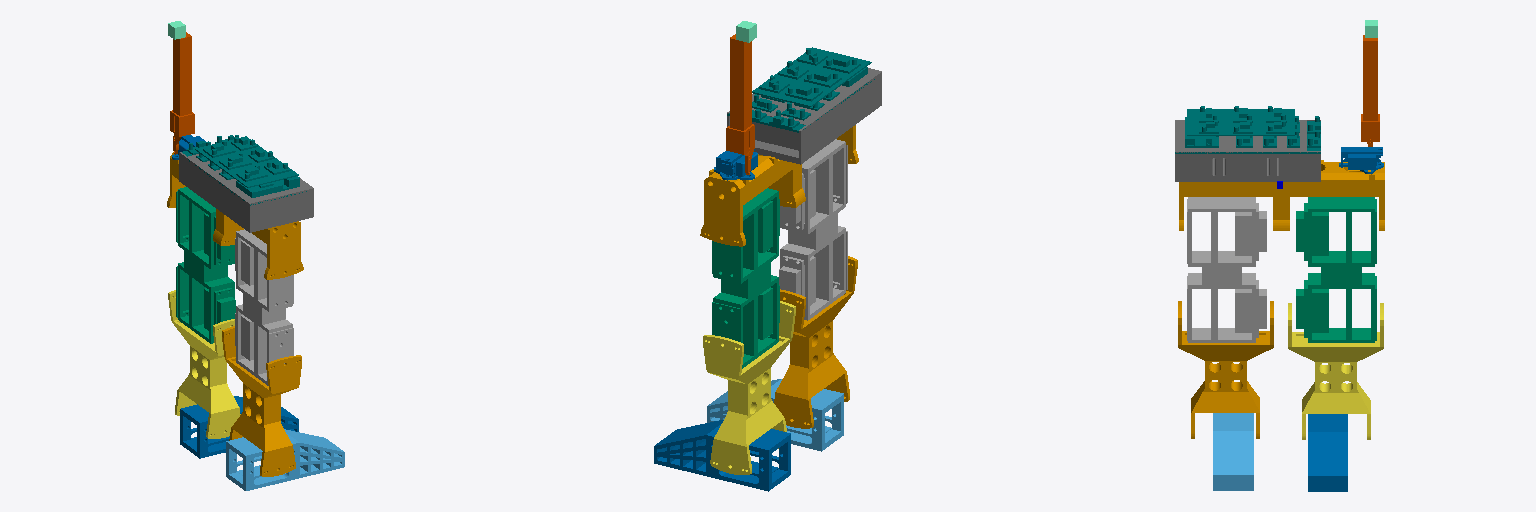
URDF robot description (Hocc_LiteBot_Prototype):
<?xml version="1.0"?>
<robot name="Hocc_LiteBot_Prototype">
    <link name='Hip'>
        <visual>
            <origin xyz="0 0 0.38" rpy="1.5708 0 1.5708"/>
            <geometry>
                <mesh filename="Assets/Hip.stl" scale="1 1 1"/>
            </geometry>
        </visual>
        <inertial>
            <origin xyz="0 0 0.38" rpy="1.5708 0 1.5708"/>
            <mass value="0.82"/>
            <inertia ixx="0.1" ixy="0.0" ixz="0.0" iyy="0.1" iyz="0.0" izz="0.1"/>
        </inertial>
        <collision>
            <origin xyz="0 0 0.38" rpy="1.5708 0 1.5708"/>
            <geometry>
                <mesh filename="Assets/Hip.stl" scale="1 1 1"/>
            </geometry>
        </collision>
        
    </link>

    <link name="Psu">
        <visual>
            <origin xyz="0.075 0.07 0.4585" rpy="1.5708 0 1.5708"/>
            <geometry>
                <mesh filename="Assets/Psu.stl" scale="1 1 1"/>
            </geometry>
            <material name="grey">
                <color rgba="0.5 0.5 0.5 1"/>
            </material>
        </visual>
        <inertial>
            <origin xyz="0.075 0.07 0.4585" rpy="1.5708 0 1.5708"/>
            <mass value="0.5"/>
            <inertia ixx="0.1" ixy="0.0" ixz="0.0" iyy="0.1" iyz="0.0" izz="0.1"/>
        </inertial>
        <collision>
            <origin xyz="0.075 0.07 0.4585" rpy="1.5708 0 1.5708"/>
            <geometry>
                <mesh filename="Assets/Psu.stl" scale="1 1 1"/>
            </geometry>
        </collision>
    </link>

    <link name="Hat">
        <visual>
            <origin xyz="0.075 0.07 0.455" rpy="1.5708 0 1.5708"/>
            <geometry>
                <mesh filename="Assets/Hat.stl" scale="1 1 1"/>
            </geometry>
            <material name="teal">
                <color rgba="0 0.5 0.5 1"/>
            </material>
        </visual>
        <inertial>
            <origin xyz="0.075 0.07 0.455" rpy="1.5708 0 1.5708"/>
            <mass value="0.15"/>
            <inertia ixx="0.1" ixy="0.0" ixz="0.0" iyy="0.1" iyz="0.0" izz="0.1"/>
        </inertial>
        <collision>
            <origin xyz="0.075 0.07 0.455" rpy="1.5708 0 1.5708"/>
            <geometry>
                <mesh filename="Assets/Hat.stl" scale="1 1 1"/>
            </geometry>
        </collision>
    </link>

    <link name="Camera_link">
        <inertial>
            <origin rpy="0 0 0" xyz="0.075 0.01 0.455"/>
            <mass value="0.01"/>
            <inertia ixx="0.0001" ixy="0" ixz="0" iyy="0.0001" iyz="0" izz="0.0001"/>
        </inertial>
        <visual>
            <origin rpy="0 0 0" xyz="0.075 0.01 0.455"/>
            <geometry>
                <box size="0.01 0.01 0.01"/>
            </geometry>
            <material name="Cam_Material">
                <color rgba="0 0 1 1.0"/>
            </material>
        </visual>
        <collision>
            <origin rpy="0 0 0" xyz="0.075 0.01 0.455"/>
            <geometry>
                <box size="0.01 0.01 0.01"/>
            </geometry>
        </collision>
    </link>

    <link name="Pendi_Motor">
        <visual>
         <origin xyz="0.01 0.16 0.46" rpy="1.5708 0 1.5708"/>
            <geometry>
                <mesh filename="Assets/Pendi_Motor.stl" scale="1 1 1"/>
            </geometry>
        </visual>
        <inertial>
            <origin xyz="0.01 0.16 0.46" rpy="1.5708 0 1.5708"/>
            <mass value="0.08"/>
            <inertia ixx="0.1" ixy="0.0" ixz="0.0" iyy="0.1" iyz="0.0" izz="0.1"/>
        </inertial>
        <collision>
            <origin xyz="0.01 0.16 0.46" rpy="1.5708 0 1.5708"/>
            <geometry>
                <mesh filename="Assets/Pendi_Motor.stl" scale="1 1 1"/>
            </geometry>
        </collision>
    </link>

    <link name="Pendi_Assembly">
        <visual>
         <origin xyz="0.02 0.01 0.06" rpy="-1.5708 1.5708 1.5708"/>
            <geometry>
                <mesh filename="Assets/Pendi_Assembly.stl" scale="1 1 1"/>
            </geometry>
        </visual>
        <inertial>
            <origin xyz="0.02 0.01 0.06" rpy="-1.5708 1.5708 1.5708"/>
            <mass value="0.08"/>
            <inertia ixx="0.1" ixy="0.0" ixz="0.0" iyy="0.1" iyz="0.0" izz="0.1"/>
        </inertial>
        <collision>
            <origin xyz="0.02 0.01 0.06" rpy="-1.5708 1.5708 1.5708"/>
            <geometry>
                <mesh filename="Assets/Pendi_Assembly.stl" scale="1 1 1"/>
            </geometry>
        </collision>
    </link>

    <link name="Pendi_Weight">
        <visual>
            <origin xyz="0 0 0" rpy="0 0 0"/>
            <geometry>
                <box size="0.02 0.02 0.02"/>
            </geometry>
            <material name="weight_material">
                <color rgba="0.5 01.0 0.8 1.0"/>
            </material>
        </visual>
        <inertial>
            <origin xyz="0 0 0" rpy="0 0 0"/>
            <mass value="0.2"/>
            <inertia ixx="0.1" ixy="0.0" ixz="0.0" iyy="0.1" iyz="0.0" izz="0.1"/>
        </inertial>
        <collision>
            <origin xyz="0 0 0" rpy="0 0 0"/>
            <geometry>
                <box size="0.02 0.02 0.02"/>
            </geometry>
        </collision>
    </link>

    

    <link name="R_Thaigh">
        <visual>
            <!-- 0.075 = Level @ Z Axis -->
            <!--<origin xyz="0.0485 -0.125 0.267" rpy="1.5708 0 -1.5708"/>-->
            <origin xyz="0.021 0.014 -0.1165" rpy="1.5708 0 -1.5708"/>
            <geometry>
                <mesh filename="Assets/Thaigh.stl" scale="1 1 1"/>
            </geometry>
        </visual>
        <inertial>
            <origin xyz="0.021 0.014 -0.1165" rpy="1.5708 0 -1.5708"/>
            <mass value="0.6"/>
            <inertia ixx="0.1" ixy="0.0" ixz="0.0" iyy="0.1" iyz="0.0" izz="0.1"/>
        </inertial>
        <collision>
            <origin xyz="0.021 0.014 -0.1165" rpy="1.5708 0 -1.5708"/>
            <geometry>
                <mesh filename="Assets/Thaigh.stl" scale="1 1 1"/>
            </geometry>
        </collision>
    </link>

    <link name="R_Shin">
        <visual>
        <!-- 0.155 -->
            <origin xyz="0.0245 0.13 -0.040" rpy="1.5708 0 0"/>
            <geometry>
                <mesh filename="Assets/Shin.stl" scale="1 1 1" />
            </geometry>
        </visual>
        <inertial>
           <origin xyz="0.0245 0.13 -0.040" rpy="1.5708 0 0"/>
            <mass value="0.33"/>
            <inertia ixx="0.1" ixy="0.0" ixz="0.0" iyy="0.1" iyz="0.0" izz="0.1"/>
        </inertial>
        <collision>
          <origin xyz="0.0245 0.13 -0.040" rpy="1.5708 0 0"/>
            <geometry>
                <mesh filename="Assets/Shin.stl" scale="1 1 1" />
            </geometry>
        </collision>
    </link>

    <link name="R_Foot">
        <visual>
            <origin xyz="-0.04 0.09 -0.04" rpy="1.5708 0 0"/>
            <geometry>
                 <mesh filename="Assets/foot.stl" scale="1 1 1" />
            </geometry>
        </visual>
        <inertial>
             <origin xyz="-0.04 0.09 -0.04" rpy="1.5708 0 0"/>
            <mass value="0.392"/>
            <inertia ixx="0.1" ixy="0.0" ixz="0.0" iyy="0.1" iyz="0.0" izz="0.1"/>
        </inertial>
        <collision>
             <origin xyz="-0.04 0.09 -0.04" rpy="1.5708 0 0"/>
            <geometry>
                 <mesh filename="Assets/foot.stl" scale="1 1 1" />
            </geometry>
        </collision>
    </link>


    <link name="L_Thaigh">
        <visual>
            
            <origin xyz="-0.021 0.151 -0.1165" rpy="1.5708 0 1.5708"/>
            <geometry>
                <mesh filename="Assets/Thaigh.stl" scale="1 1 1"/>
            </geometry>
        </visual>
        <inertial>
            <origin xyz="-0.021 0.151 -0.1165" rpy="1.5708 0 1.5708"/>
            <mass value="0.6"/>
            <inertia ixx="0.1" ixy="0.0" ixz="0.0" iyy="0.1" iyz="0.0" izz="0.1"/>
        </inertial>
        <collision>
            <origin xyz="-0.021 0.151 -0.1165" rpy="1.5708 0 1.5708"/>
            <geometry>
                <mesh filename="Assets/Thaigh.stl" scale="1 1 1" />
            </geometry>
        </collision>
    </link>

    <link name="L_Shin">
        <visual>
            <origin xyz="0.0245 0.013 -0.040" rpy="1.5708 0 0"/>
            <geometry>
                <mesh filename="Assets/Shin.stl" scale="1 1 1" />
            </geometry>
        </visual>
        <inertial>
            <origin xyz="0.0245 0.013 -0.040" rpy="1.5708 0 0"/>
            <mass value="0.33"/>
            <inertia ixx="0.1" ixy="0.0" ixz="0.0" iyy="0.1" iyz="0.0" izz="0.1"/>
        </inertial>
        <collision>
            <origin xyz="0.0245 0.013 -0.040" rpy="1.5708 0 0"/>
            <geometry>
                <mesh filename="Assets/Shin.stl" scale="1 1 1" />
            </geometry>
        </collision>
    </link>

    <link name="L_Foot">
        <visual>
            <origin xyz="-0.04 -0.04 -0.04" rpy="1.5708 0 0"/>
            <geometry>
                <mesh filename="Assets/foot.stl" scale="1 1 1" />
            </geometry>
        </visual>
        <inertial>
           <origin xyz="-0.04 -0.04 -0.04" rpy="1.5708 0 0"/>
            <mass value="0.392"/>
            <inertia ixx="0.1" ixy="0.0" ixz="0.0" iyy="0.1" iyz="0.0" izz="0.1"/>
        </inertial>
        <collision>
            <origin xyz="-0.04 -0.04 -0.04" rpy="1.5708 0 0"/>
            <geometry>
                <mesh filename="Assets/foot.stl" scale="1 1 1" />
            </geometry>
        </collision>
    </link>

    <!--<link name="MsrTool">
        <visual>
            <origin xyz="0 0 0" rpy="0 0 0"/>
            <geometry>
                <sphere radius="0.003"/>
            </geometry>
            <material name="joint_material1">
                <color rgba="1.0 0.0 0.0 1.0"/>
            </material>
            <collision>
               <origin xyz="0 0 0" rpy="0 0 0"/>
            </collision>
        </visual>
    </link>-->

    <!--<link name="Env_Block">
        <inertial>
                <origin rpy="0 0 0" xyz="1 0 0"/>
                <mass value="0.01"/>
                <inertia ixx="0.0001" ixy="0" ixz="0" iyy="0.0001" iyz="0" izz="0.0001"/>
            </inertial>
            <visual>
                <origin rpy="0 0 0" xyz="0.3 0 0"/>
                <geometry>
                    <box size="0.1 0.1 0.1"/>
                </geometry>
                <material name="Cam_Material">
                    <color rgba="0 0 1 1.0"/>
                </material>
            </visual>
            <collision>
                <origin rpy="0 0 0" xyz="1 0 0"/>
                <geometry>
                    <box size="0.01 0.01 0.01"/>
                </geometry>
            </collision>
    </link>-->

    <link name="L_Thaigh_Axle">
    <inertial>
        <mass value="0.001" />
        <inertia ixx="0.001" ixy="0.0" ixz="0.0" iyy="0.001" iyz="0.0" izz="0.001" />
        <origin rpy="0 0 0" xyz="0 0 0" />
    </inertial>
    </link>

    <link name="L_Shin_Axle">
    <inertial>
        <mass value="0.001" />
        <inertia ixx="0.001" ixy="0.0" ixz="0.0" iyy="0.001" iyz="0.0" izz="0.001" />
        <origin rpy="0 0 0" xyz="0 0 0" />
    </inertial>
    </link>

    <link name="L_Foot_Axle">
    <inertial>
        <mass value="0.001" />
        <inertia ixx="0.001" ixy="0.0" ixz="0.0" iyy="0.001" iyz="0.0" izz="0.001" />
        <origin rpy="0 0 0" xyz="0 0 0" />
    </inertial>
    </link>

    <link name="R_Thaigh_Axle">
    <inertial>
        <mass value="0.001" />
        <inertia ixx="0.001" ixy="0.0" ixz="0.0" iyy="0.001" iyz="0.0" izz="0.001" />
        <origin rpy="0 0 0" xyz="0 0 0" />
    </inertial>
    </link>

    <link name="R_Shin_Axle">
    <inertial>
        <mass value="0.001" />
        <inertia ixx="0.001" ixy="0.0" ixz="0.0" iyy="0.001" iyz="0.0" izz="0.001" />
        <origin rpy="0 0 0" xyz="0 0 0" />
    </inertial>
    </link>

    <link name="R_Foot_Axle">
    <inertial>
        <mass value="0.001" />
        <inertia ixx="0.001" ixy="0.0" ixz="0.0" iyy="0.001" iyz="0.0" izz="0.001" />
        <origin rpy="0 0 0" xyz="0 0 0" />
    </inertial>
    </link>

    <link name="Pendi_Axle">
    <inertial>
        <mass value="0.001" />
        <inertia ixx="0.001" ixy="0.0" ixz="0.0" iyy="0.001" iyz="0.0" izz="0.001" />
        <origin rpy="0 0 0" xyz="0 0 0" />
    </inertial>
    </link>





   
   
   
   
   
   
   
    <!--<joint name="Measure" type="fixed">
        <parent link="Pendi_Axle"/>
        <child link="MsrTool"/>
        <origin xyz="0 0 0" rpy="0 0 0"/>
    </joint>-->







    


    <joint name="R_Thaigh_Axle" type="fixed">
        <parent link="R_Thaigh_Axle"/>
        <child link="R_Thaigh"/>
        <origin xyz="0 0 0" rpy="0 0 0"/>
    </joint>
    <joint name="HipRThaigh" type="revolute">
        <parent link="Hip"/>
        <child link="R_Thaigh_Axle"/>
        <origin xyz="0.0275 -0.14 0.374" rpy="0 0 0"/>
        <axis xyz="0 -1 0"/>
        <limit lower="-1.5708" upper="1.5708" effort="5.886" velocity=" 6.98"/>
    </joint>

    <joint name="R_Shin_Axle" type="fixed">
        <parent link="R_Shin_Axle"/>
        <child link="R_Shin"/>
        <origin xyz="0 0 0" rpy="0 0 0"/>
    </joint>
    <joint name="ThaighRShin" type="revolute">
        <parent link="R_Thaigh"/>
        <child link="R_Shin_Axle"/>
        <origin xyz="0 0.011 -0.153" rpy="0 0 0"/>
        <axis xyz="0 -1 0"/>
        <limit lower="-1.5708" upper="1.5708" effort="5.886" velocity=" 6.98"/>
    </joint>

    <joint name="R_Foot_Axle" type="fixed">
        <parent link="R_Foot_Axle"/>
        <child link="R_Foot"/>
        <origin xyz="0 0 0" rpy="0 0 0"/>
    </joint>

    <joint name="ShinRFoot" type="revolute">
        <parent link="R_Shin"/>
        <child link="R_Foot_Axle"/>
        <origin xyz="0 0.01 -0.1855" rpy="0 0 0"/>
        <axis xyz="0 -1 0"/>
        <limit lower="-1.5708" upper="1.5708" effort="5.886" velocity=" 6.98"/>
    </joint>





    <joint name="L_Thaigh_Axle" type="fixed">
        <parent link="L_Thaigh_Axle"/>
        <child link="L_Thaigh"/>
        <origin xyz="0 0 0" rpy="0 0 0"/>
    </joint>
    <joint name="HipLThaigh" type="revolute">
        <parent link="Hip"/>
        <child link="L_Thaigh_Axle"/>
        <origin xyz="0.0275 0 0.374" rpy="0 0 0"/>
        <axis xyz="0 -1 0"/>
        <limit lower="-1.5708" upper="1.5708" effort="5.886" velocity=" 6.98"/>
    </joint>

    <joint name="L_Shin_Axle" type="fixed">
        <parent link="L_Shin_Axle"/>
        <child link="L_Shin"/>
        <origin xyz="0 0 0" rpy="0 0 0"/>
    </joint>
    <joint name="ThaighLShin" type="revolute">
        <parent link="L_Thaigh"/>
        <child link="L_Shin_Axle"/>
        <origin xyz="0 0.151 -0.155" rpy="0 0 0"/>
        <axis xyz="0 -1 0"/>
        <limit lower="-1.5708" upper="1.5708" effort="5.886" velocity=" 6.98"/>
    </joint>

    <joint name="L_Foot_Axle" type="fixed">
        <parent link="L_Shin"/>
        <child link="L_Foot_Axle"/>
        <!--<origin xyz="0 0 -0.185" rpy="0 0 0"/>-->
        <origin xyz="0 0 0" rpy="0 0 0"/>
    </joint>
    <joint name="ShinLFoot" type="revolute">
        <parent link="L_Shin_Axle"/>
        <child link="L_Foot"/>
        <origin xyz="0 0 -0.185" rpy="0 0 0"/>
        <axis xyz="0 -1 0"/>
        <limit lower="-1.5708" upper="1.5708" effort="5.886" velocity=" 6.98"/>
    </joint>

    <joint name="PsuMount" type="fixed">
        <parent link="Hip"/>
        <child link="Psu"/>
        <origin xyz="0 0 0" rpy="0 0 0"/>
    </joint>

    <joint name="PcbMount" type="fixed">
        <parent link="Psu"/>
        <child link="Hat"/>
        <origin xyz="0 0 0" rpy="0 0 0"/>
    </joint>

    <joint name="Pendi_Motor" type="fixed">
        <parent link="Hip"/>
        <child link="Pendi_Motor"/>
        <origin xyz="0 0 0" rpy="0 0 0"/>
    </joint>

    <joint name="Pendi_Axle" type="fixed">
        <parent link="Pendi_Motor"/>
        <child link="Pendi_Axle"/>
        <origin xyz="0.0015 0.145 0.473" rpy="0 0 0"/>
    </joint>
    <joint name="Pendi_Link" type="revolute">
        <parent link="Pendi_Axle"/>
        <child link="Pendi_Assembly"/>
        <origin xyz="0 0 0" rpy="0 0 0"/>
        <axis xyz="1 0 0"/>
        <limit lower="-1.5708" upper="1.5708" effort="5.886" velocity=" 6.98"/>
    </joint>

    <joint name="Pendi_Weight" type="fixed">
        <parent link="Pendi_Assembly"/>
        <child link="Pendi_Weight"/>
        <origin xyz="0 0 0.2" rpy="0 0 0"/>
    </joint>

    <joint name="camera_joint" type="fixed">
        <parent link="Psu"/>
        <child link="Camera_link"/>
        <origin rpy="0 0 0" xyz="0 0 0"/>
    </joint>

    <!--<joint name="Env_joint" type="fixed">
        <parent link="Hip"/>
        <child link="Env_Block"/>
        <origin xyz="0 0 0" rpy="0 0 0"/>
    </joint>-->

</robot>

--- Render facts (derived) ---
The picture shows the robot from 3 angles, left to right: view 1: azimuth 30°, elevation 25°; view 2: azimuth 150°, elevation 25°; view 3: azimuth 270°, elevation 25°; orthographic projection.
Robot: Hocc_LiteBot_Prototype — 20 links, 19 joints (7 revolute, 12 fixed); root link Hip; default pose: all joints at 0.
Links seen in each view (by area): view 1: L_Thaigh, R_Thaigh, R_Shin, Psu, L_Shin, Hat, R_Foot, Hip, Pendi_Assembly, L_Foot; view 2: R_Thaigh, L_Thaigh, L_Shin, R_Shin, Hat, Psu, Hip, L_Foot, Pendi_Assembly, R_Foot, Pendi_Motor; view 3: L_Thaigh, R_Thaigh, Psu, L_Shin, Hip, R_Shin, Hat, R_Foot, L_Foot, Pendi_Assembly, Pendi_Motor.
Boxes of the visible links, <box> form: L_Thaigh: <box>176,187,235,343</box>; R_Thaigh: <box>235,229,293,385</box>; R_Shin: <box>222,326,301,476</box>; Psu: <box>179,152,313,232</box>; L_Shin: <box>168,290,240,438</box>; Hat: <box>182,135,306,205</box>; R_Foot: <box>226,429,344,490</box>; Hip: <box>167,152,303,279</box>; Pendi_Assembly: <box>170,32,194,154</box>; L_Foot: <box>180,396,298,458</box>; R_Thaigh: <box>779,139,847,320</box>; L_Thaigh: <box>712,188,779,368</box>; L_Shin: <box>703,301,795,474</box>; R_Shin: <box>774,256,857,428</box>; Hat: <box>727,47,874,132</box>; Psu: <box>727,68,881,164</box>; Hip: <box>700,125,858,246</box>; L_Foot: <box>654,420,790,491</box>; Pendi_Assembly: <box>726,34,754,174</box>; R_Foot: <box>707,379,843,451</box>; Pendi_Motor: <box>714,149,757,180</box>; L_Thaigh: <box>1296,197,1376,342</box>; R_Thaigh: <box>1187,197,1266,342</box>; Psu: <box>1175,120,1320,181</box>; L_Shin: <box>1288,303,1383,439</box>; Hip: <box>1179,160,1384,230</box>; R_Shin: <box>1178,301,1273,438</box>; Hat: <box>1175,106,1320,153</box>; R_Foot: <box>1213,413,1253,490</box>; L_Foot: <box>1308,414,1347,491</box>; Pendi_Assembly: <box>1361,35,1379,146</box>; Pendi_Motor: <box>1339,147,1383,173</box>.
Size in the robot's own frame: 0.2005 by 0.31 by 0.689 metres.
Meshes: 8 distinct files referenced, 11 mesh visuals loaded (8 binary STL).
